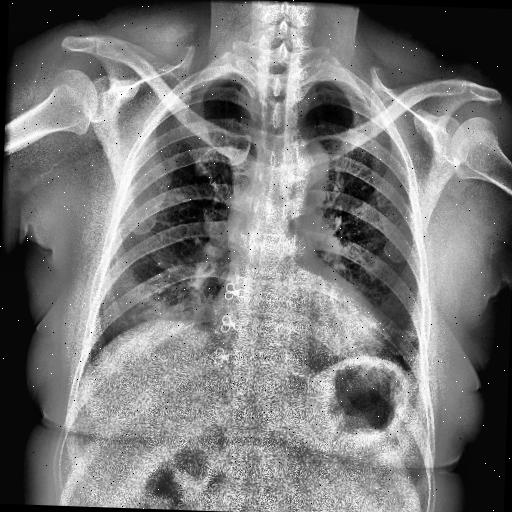0- Aortic enlargement: (275, 137, 329, 197), (282, 136, 330, 202), (285, 138, 329, 202)
3- Cardiomegaly: (204, 266, 392, 352), (208, 293, 384, 373), (206, 289, 392, 358)
